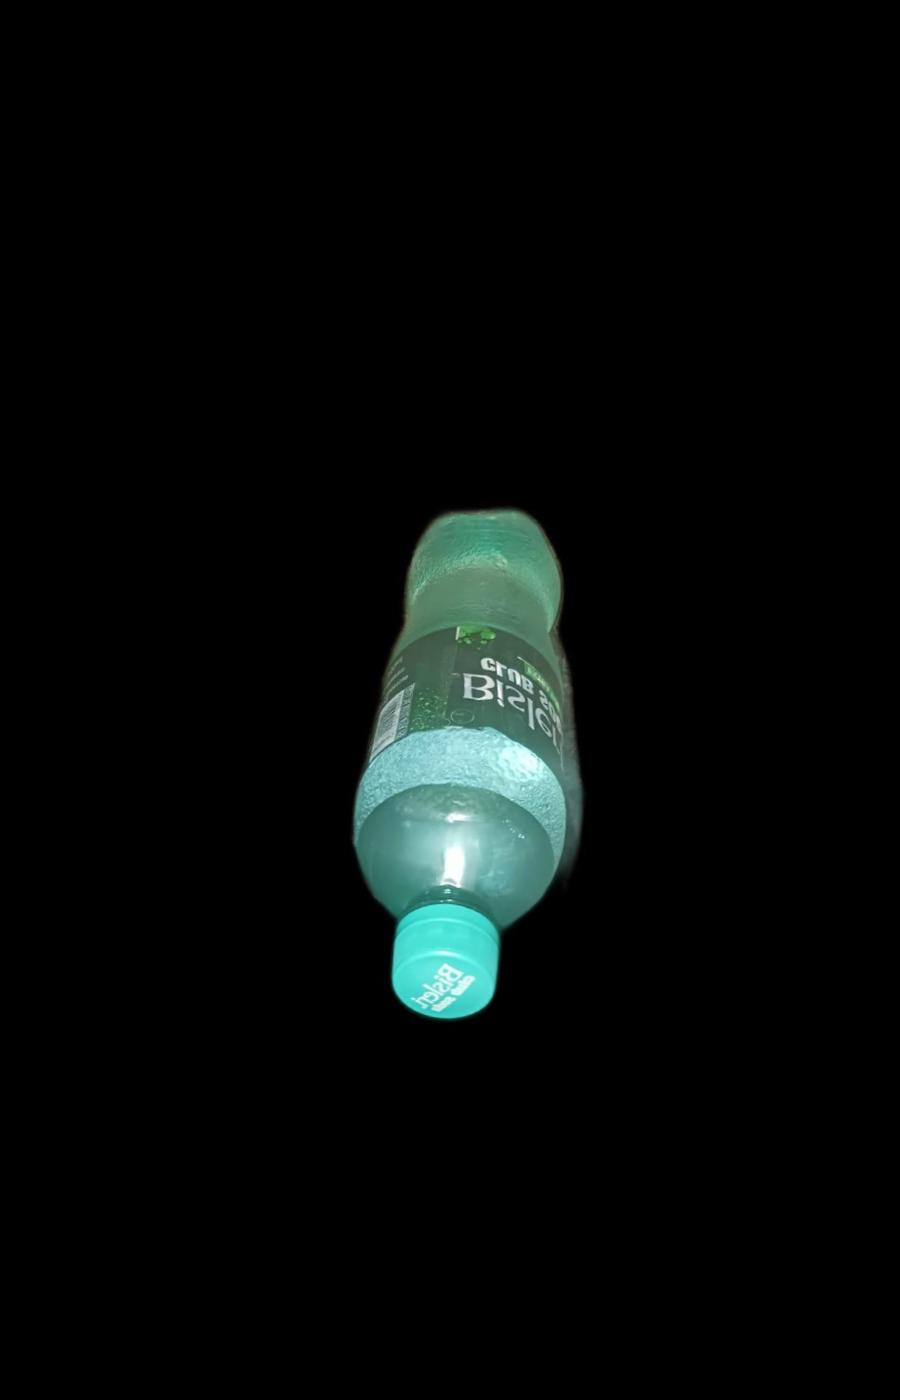Bisleri Club Soda - 750 ml: (323, 472, 630, 1038)
